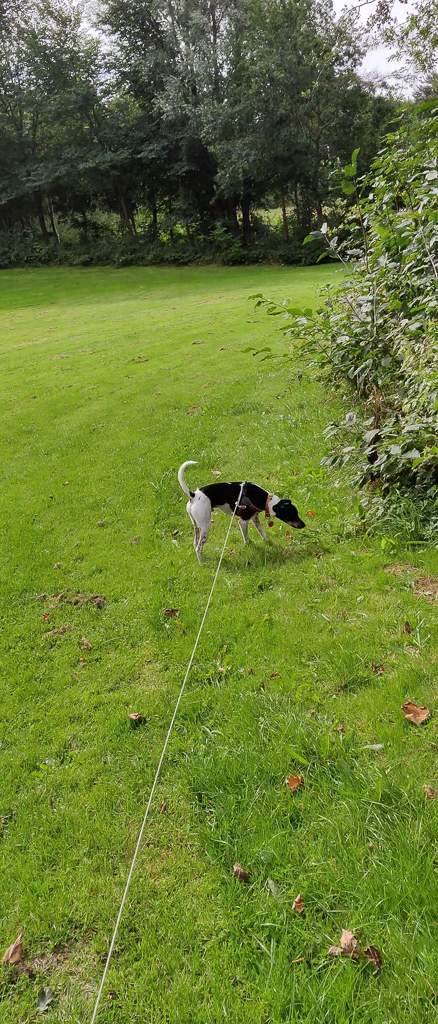Dog: (172, 453, 319, 572)
